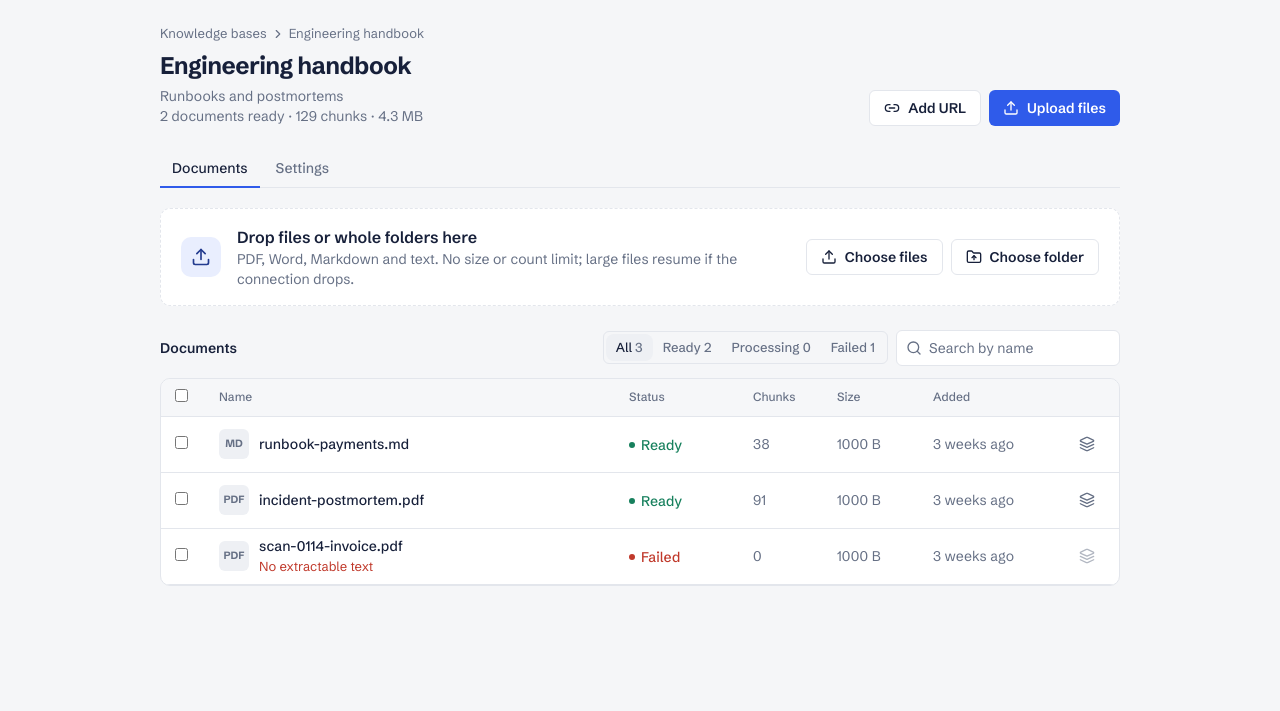
Scenario: KnowledgeDetailPage: search settings › lets the owner tune how this knowledge base is searched from its Settings tab
The image size is (1280, 711).
Click the tab "Settings": (302, 168) [264,150,341,188]
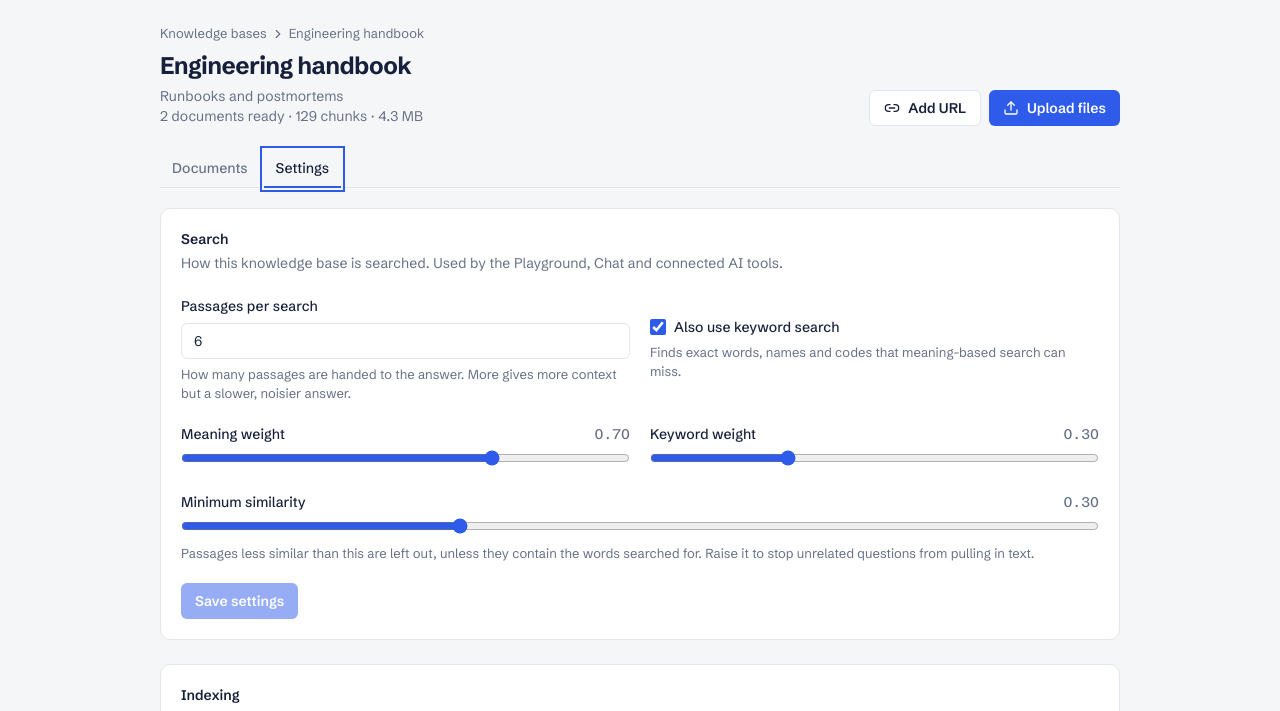
expect the number field labelled "Passages per search" holds "6": met, box [181,322,630,358]
expect the button "Save settings" is disabled: met, box [181,583,298,619]
